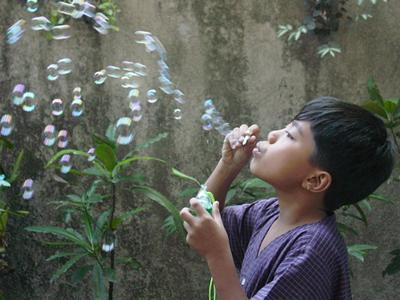person: (170, 95, 394, 300)
